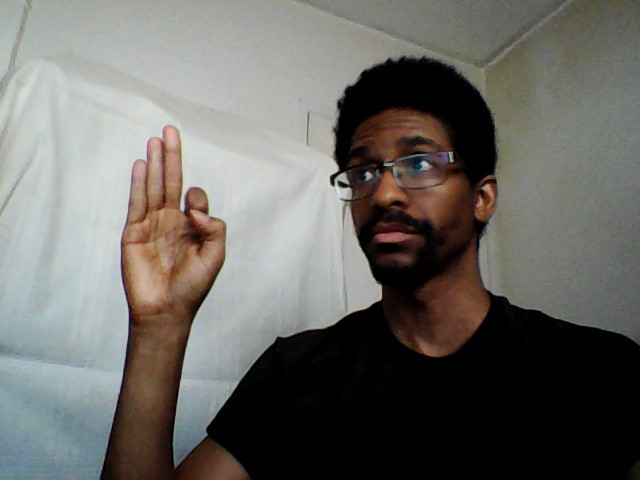f: (115, 118, 230, 327)
